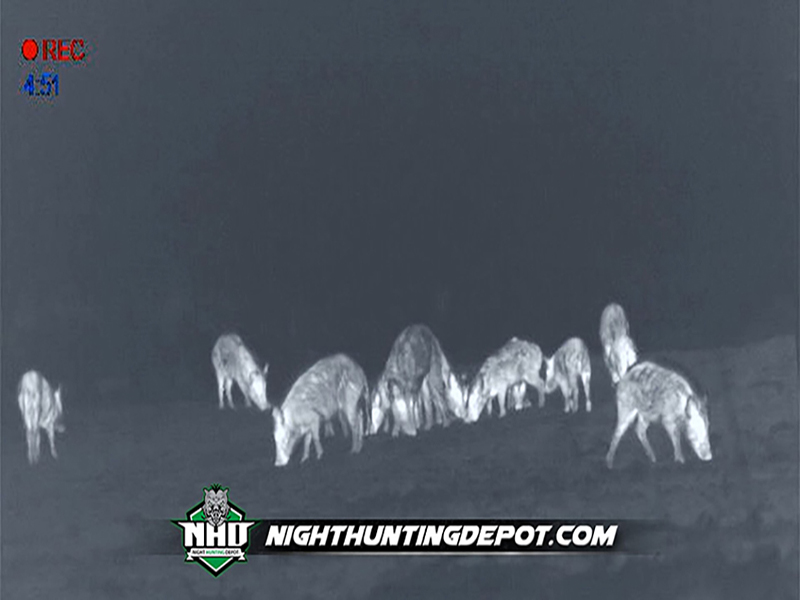cinghiale: (597, 359, 718, 467), (271, 343, 374, 468), (6, 361, 76, 466), (389, 315, 449, 431), (467, 338, 547, 420), (202, 328, 270, 419), (529, 335, 596, 408), (592, 305, 649, 387)
